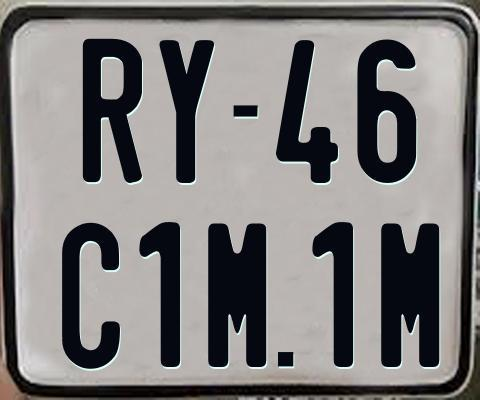1: (136, 221, 181, 372), (310, 220, 351, 366)
4: (276, 37, 341, 185)
6: (355, 36, 419, 184)
C: (60, 221, 124, 367)
M: (206, 221, 268, 365), (378, 221, 436, 367)
R: (82, 36, 143, 183)
Y: (158, 37, 215, 184)
